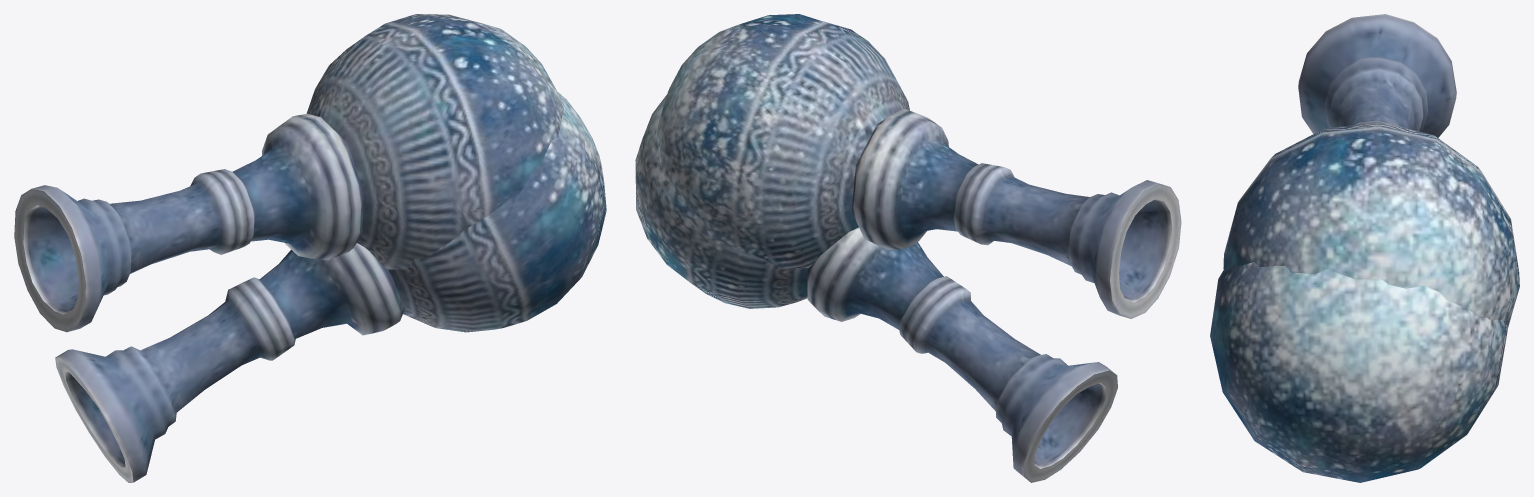
File: weapon-wp_a_1531.glb
3 views of the same model, side by side, from view 1: azimuth 30°, elevation 25°; view 2: azimuth 150°, elevation 25°; view 3: azimuth 270°, elevation 25° (orthographic). The views are drawn at different scales.
Visible parts, largest first — view 1: wp_a_1531_mesh; view 2: wp_a_1531_mesh; view 3: wp_a_1531_mesh.
Boxes of the visible parts, box(x1,y1,x2,y2) form: wp_a_1531_mesh: box(14, 14, 606, 482); wp_a_1531_mesh: box(635, 14, 1181, 482); wp_a_1531_mesh: box(1210, 14, 1519, 482).
Size of the model in its own units: 0.1071 by 0.0753 by 0.0504.
1 material, 1 textured.
